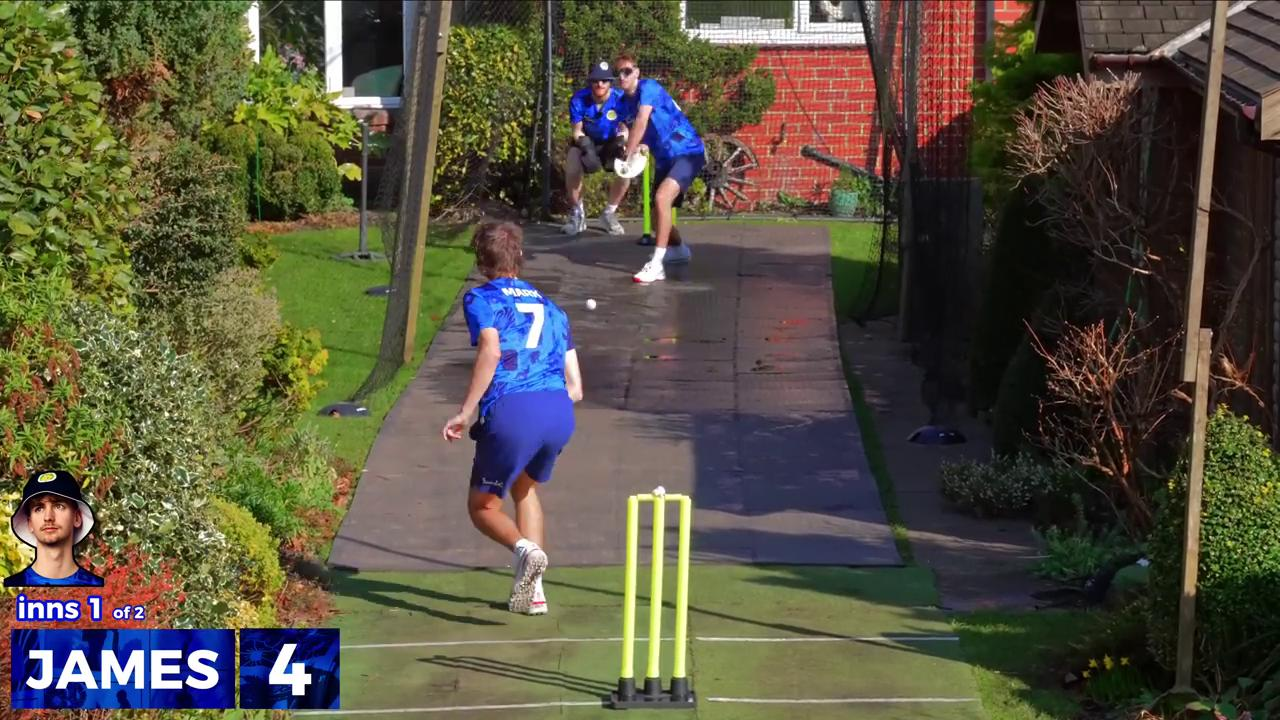ball: (577, 289, 602, 317)
